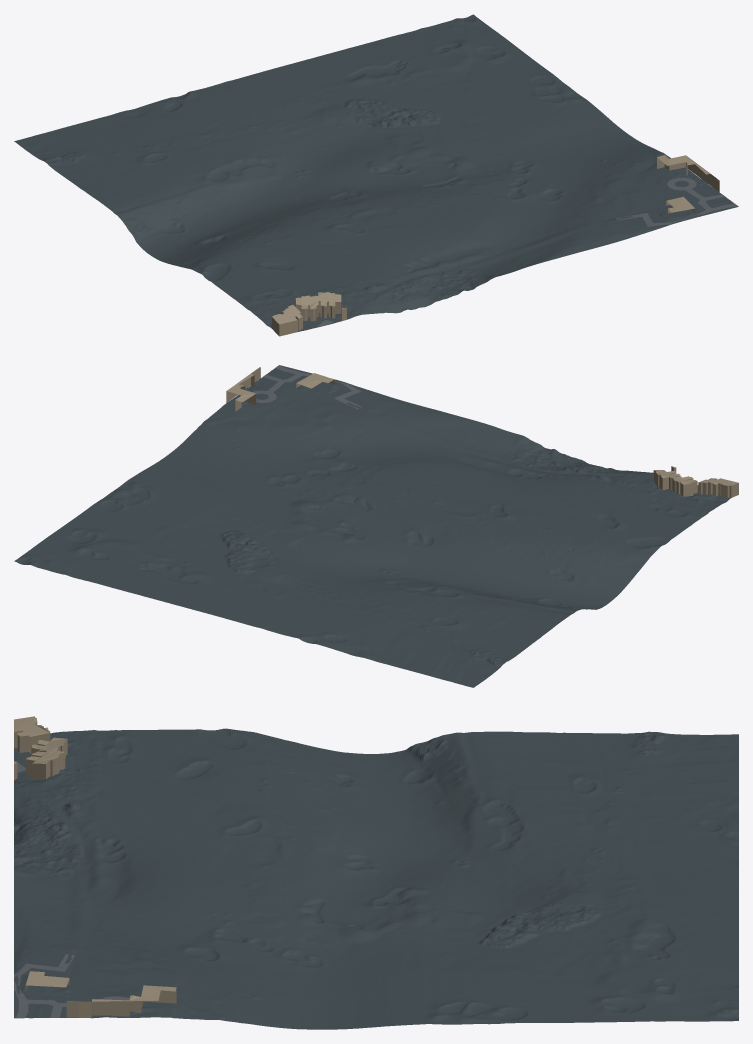
Rendered from epsg26910-1421-10869.lod0.glb.
The picture shows the model from 3 angles, top to bottom: view 1: azimuth 30°, elevation 25°; view 2: azimuth 150°, elevation 25°; view 3: azimuth 270°, elevation 25°; orthographic projection. The views are drawn at different scales.
Parts seen in each view (by area): view 1: epsg26910-1421-10869-lod0; view 2: epsg26910-1421-10869-lod0; view 3: epsg26910-1421-10869-lod0.
Boxes of the visible parts, x1,y1,x2,y2 form: epsg26910-1421-10869-lod0: (14,14,738,336); epsg26910-1421-10869-lod0: (14,365,738,687); epsg26910-1421-10869-lod0: (14,716,738,1029).
Size of the model in its own units: 384 by 34.86 by 384.
